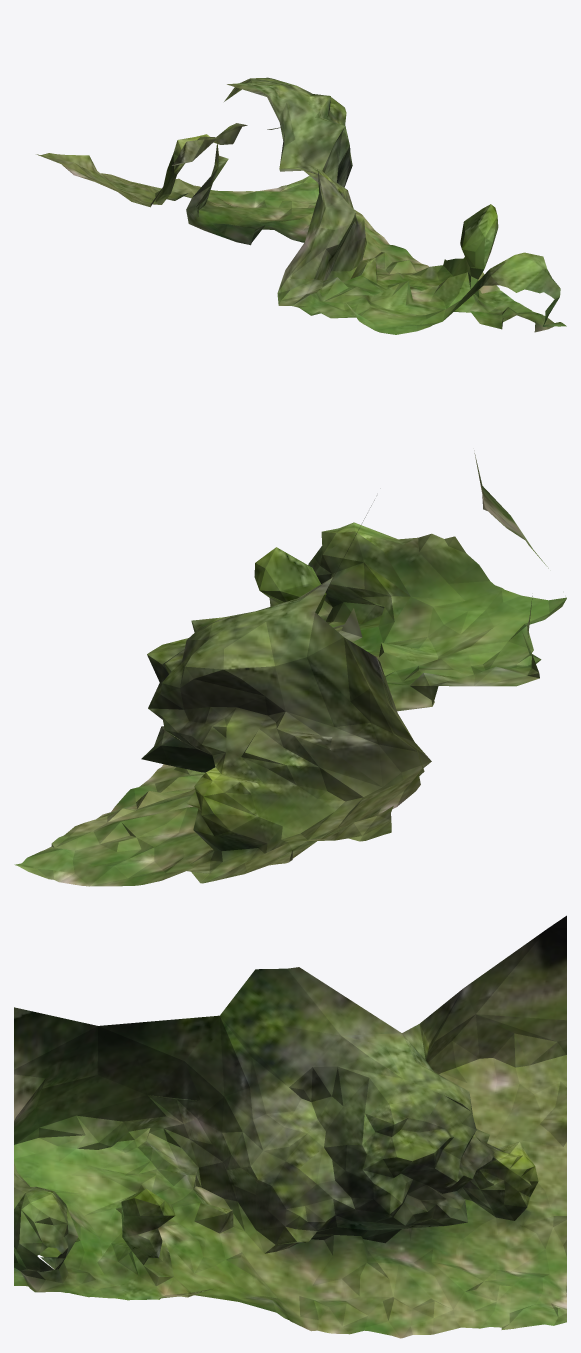
The picture shows the model from 3 angles, top to bottom: view 1: azimuth 30°, elevation 25°; view 2: azimuth 150°, elevation 25°; view 3: azimuth 270°, elevation 25°; orthographic projection. The views are drawn at different scales.
Bounding box in the file's own units: 17.84 × 14.75 × 26.11.
Materials: 3 (3 with a texture image).
